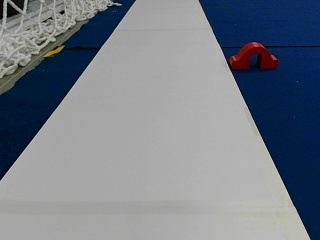bridge: (230, 41, 277, 67)
